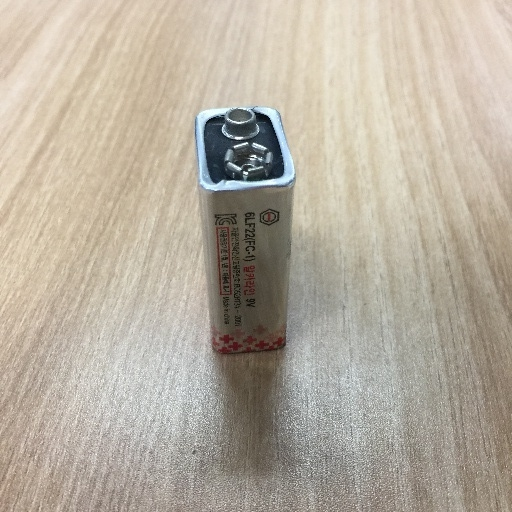Battery_3: (169, 97, 322, 375)
